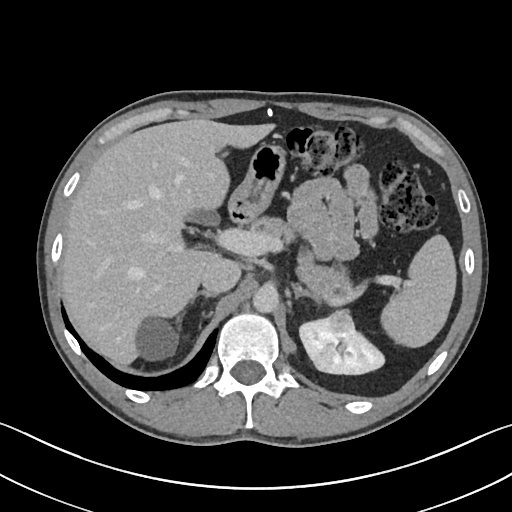Lesion: (327, 311, 356, 335)
